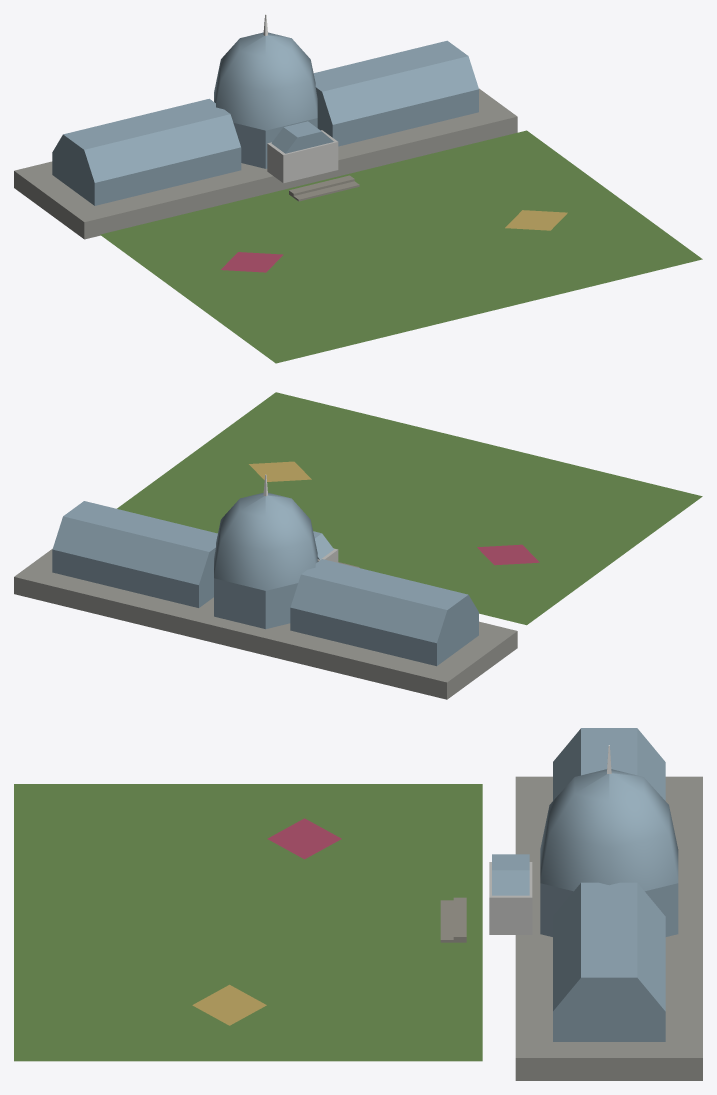
File: mobile-low.glb
3 renders of one model, top to bottom at view 1: azimuth 30°, elevation 25°; view 2: azimuth 150°, elevation 25°; view 3: azimuth 270°, elevation 25°, orthographic. The views are drawn at different scales.
Parts seen in each view (by area): view 1: lm.flower-conservatory; view 2: lm.flower-conservatory; view 3: lm.flower-conservatory.
Part boxes in pixels (box(x1,y1,x2,y2)): lm.flower-conservatory: box(14, 14, 702, 363); lm.flower-conservatory: box(14, 392, 702, 699); lm.flower-conservatory: box(14, 728, 702, 1080).
Size of the model in its own units: 71 by 22.9 by 73.5.
